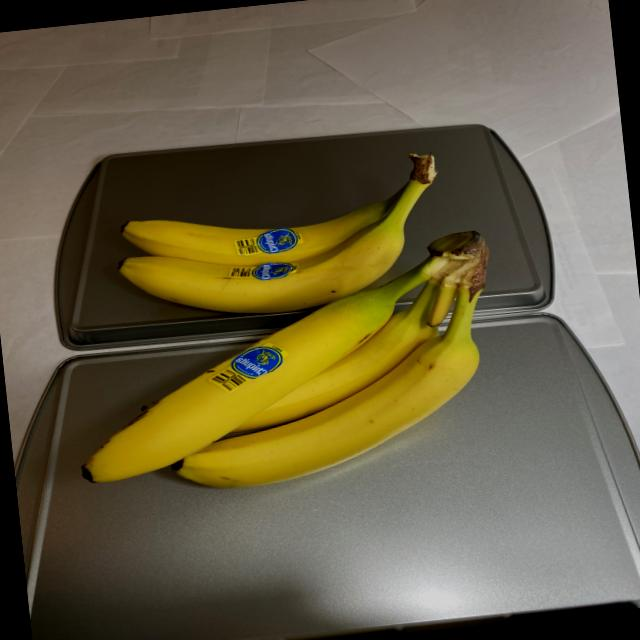banana: (45, 147, 515, 552)
